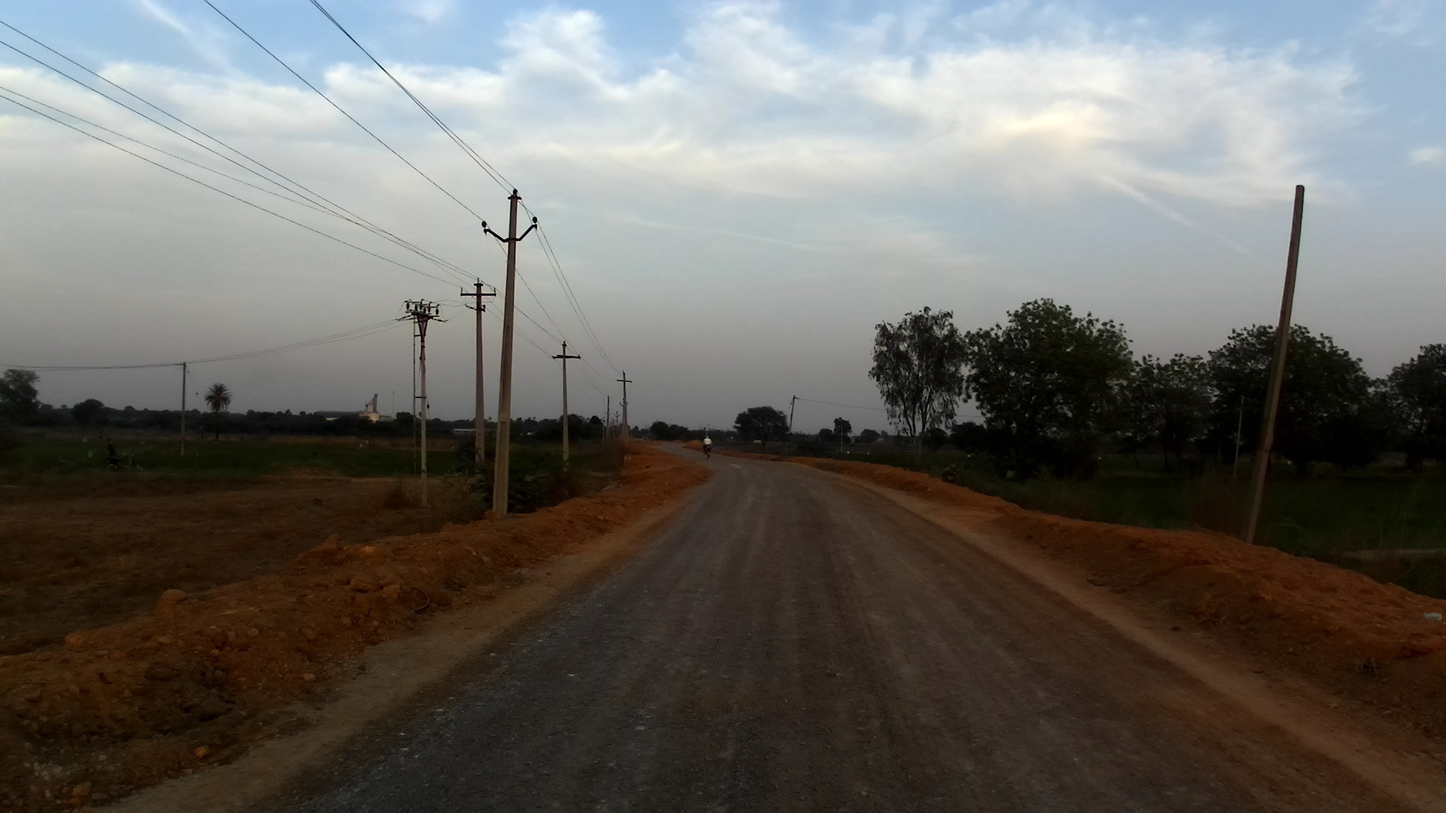bicycle: (701, 443, 713, 460)
rider: (700, 434, 712, 455)
